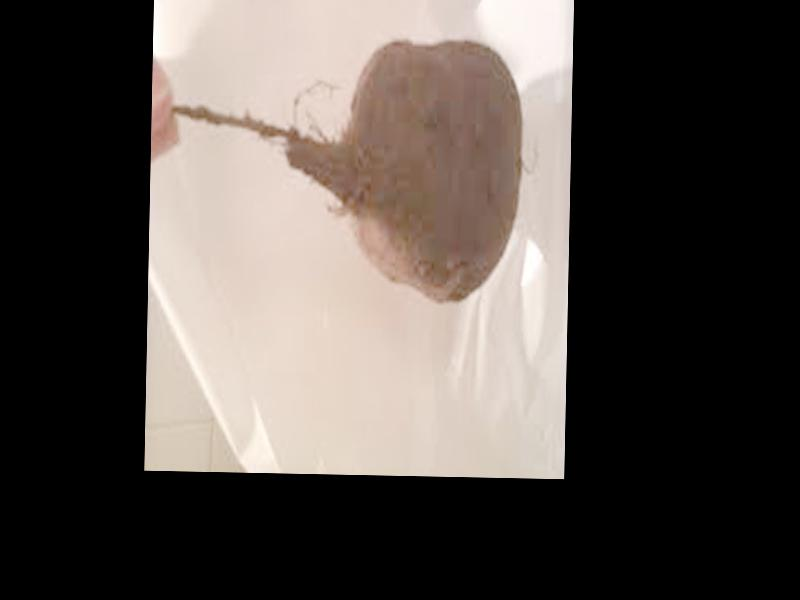Beet: (164, 34, 524, 306)
